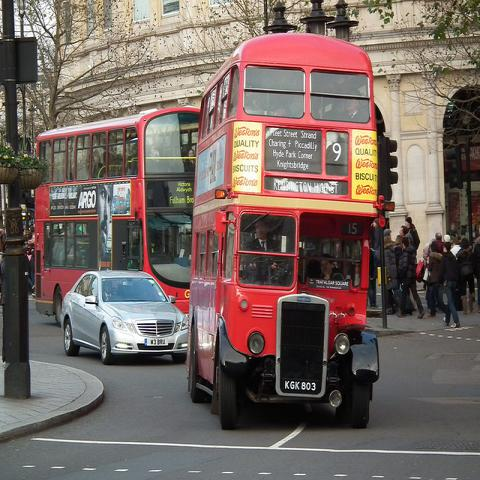bus: (185, 31, 379, 432), (35, 107, 203, 324)
car: (62, 268, 189, 368)
